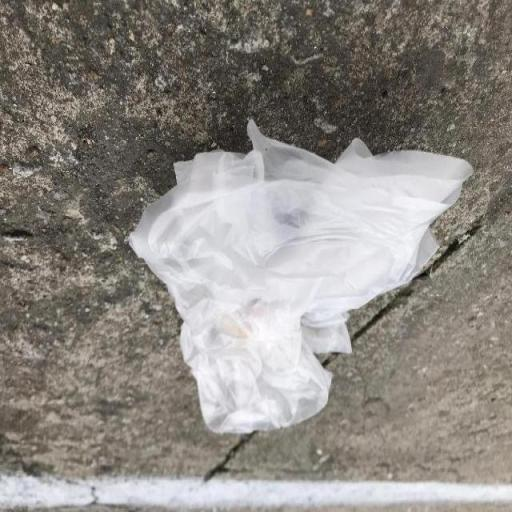plastic-bag: (127, 116, 478, 437)
